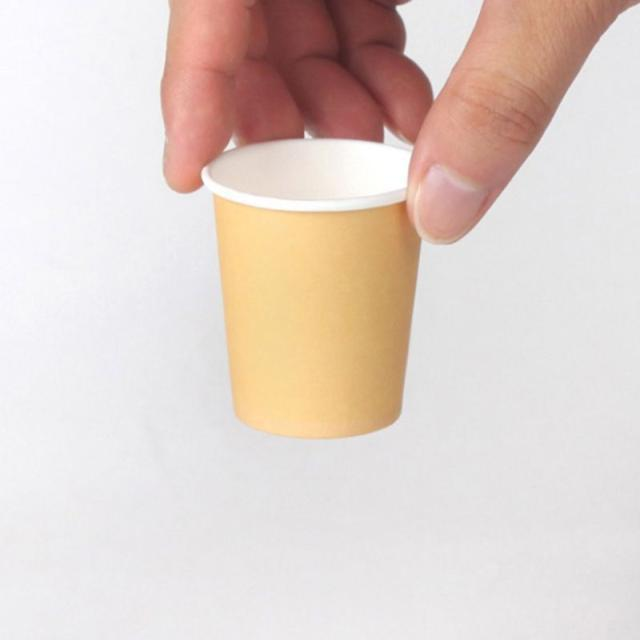Cup: (198, 134, 424, 444)
